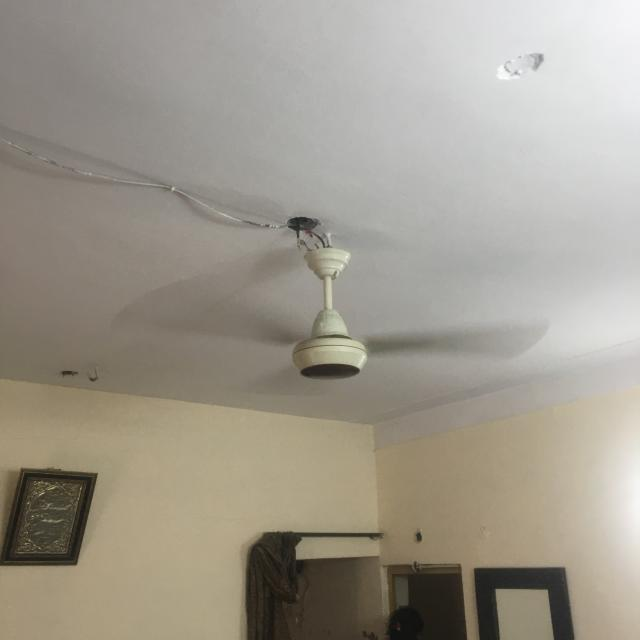on: (109, 259, 556, 413)
